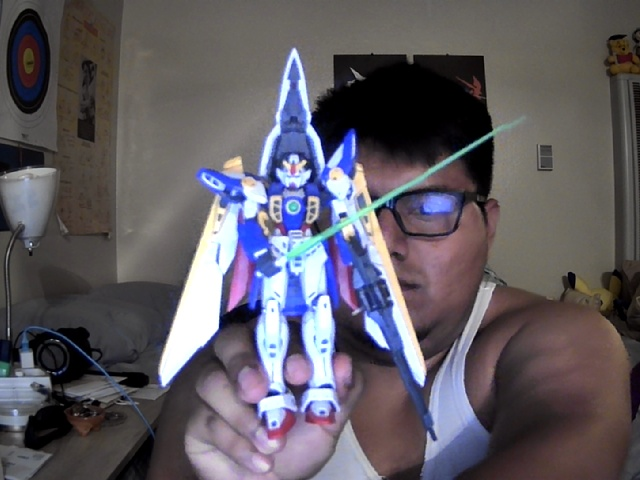Wing-01: (157, 45, 527, 444)
